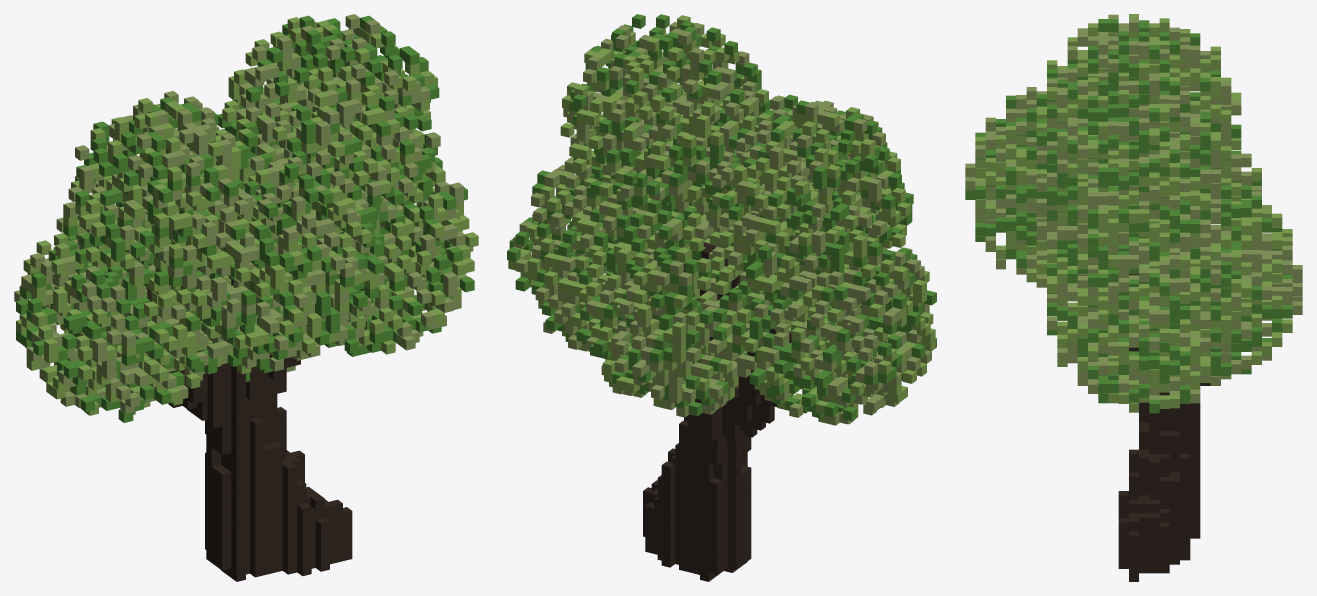
File: Korean castle_tree_01.FBX
3 views of the same model, side by side, from view 1: azimuth 30°, elevation 25°; view 2: azimuth 150°, elevation 25°; view 3: azimuth 270°, elevation 25° (orthographic). The views are drawn at different scales.
Parts seen in each view (by area): view 1: Voxel_Korean_traditional castle-0; view 2: Voxel_Korean_traditional castle-0; view 3: Voxel_Korean_traditional castle-0.
Boxes of the visible parts, box(x1,y1,x2,y2) form: Voxel_Korean_traditional castle-0: box(14, 14, 478, 581); Voxel_Korean_traditional castle-0: box(507, 14, 936, 581); Voxel_Korean_traditional castle-0: box(965, 14, 1302, 581).
Size of the model in its own units: 92.05 by 112 by 66.04.
Materials: 1 (1 with a texture image).
